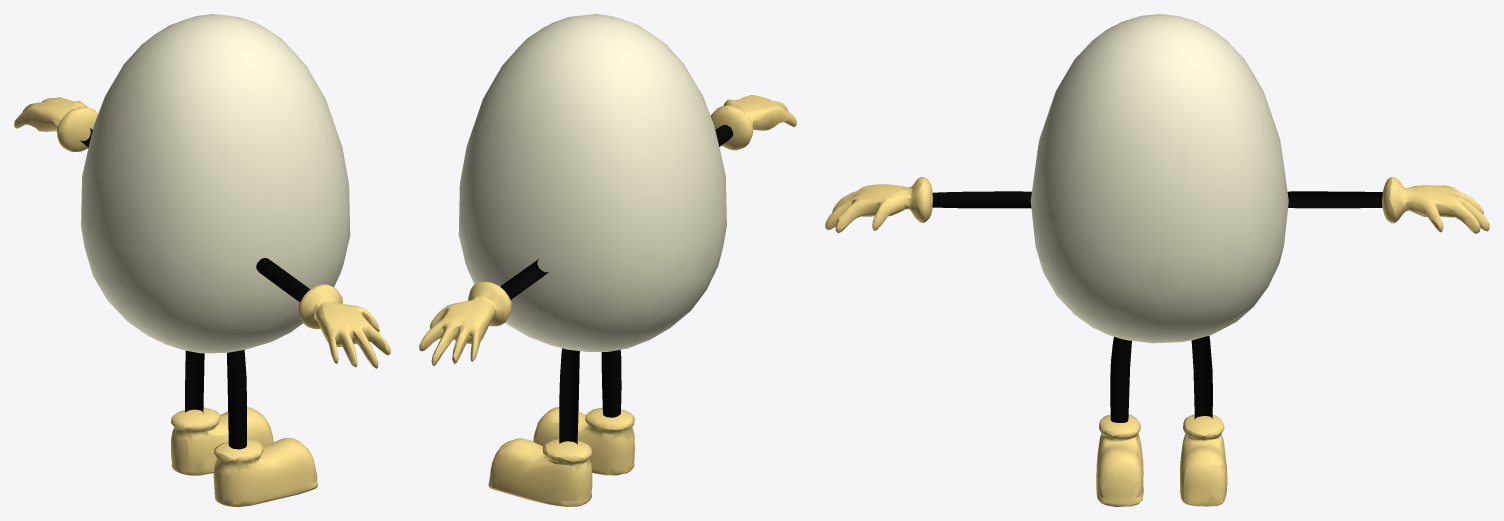
Rendered from HuevoModel.fbx.
3 renders of one model, left to right at view 1: azimuth 30°, elevation 25°; view 2: azimuth 150°, elevation 25°; view 3: azimuth 270°, elevation 25°, orthographic. The views are drawn at different scales.
Visible parts, largest first — view 1: Cubo.003, Cubo.002; view 2: Cubo.003, Cubo.002; view 3: Cubo.003, Cubo.002.
Part boxes in pixels (x1,y1,x2,y2): Cubo.003: (81,14,350,353); Cubo.002: (14,97,390,506); Cubo.003: (458,14,726,351); Cubo.002: (419,95,796,506); Cubo.003: (1030,14,1288,343); Cubo.002: (825,177,1489,506).
Bounding box in the file's own units: 463 × 893 × 1192.
